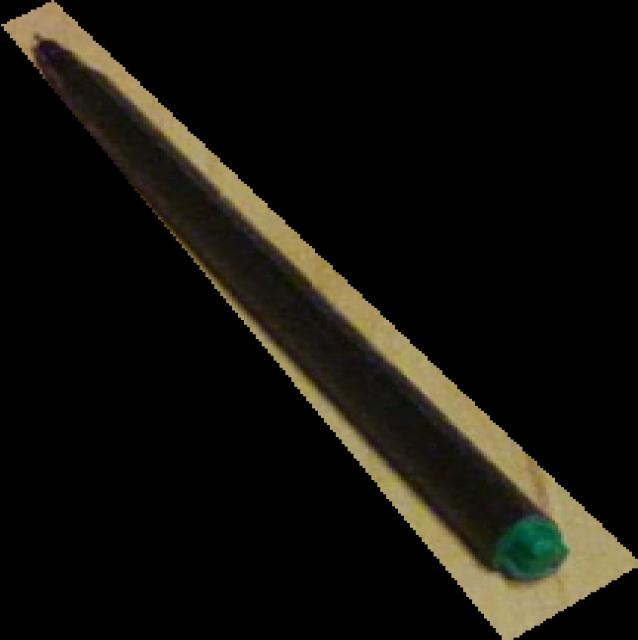green: (1, 1, 638, 640)
